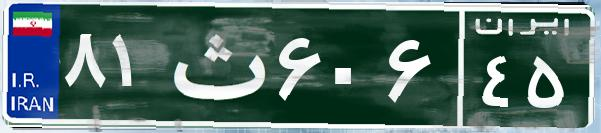0: (330, 28, 385, 110)
1: (110, 28, 158, 105)
4: (475, 38, 525, 113)
5: (525, 38, 570, 115)
6: (385, 28, 445, 110), (273, 28, 330, 110)
8: (57, 26, 110, 107)
ث: (158, 15, 273, 115)
